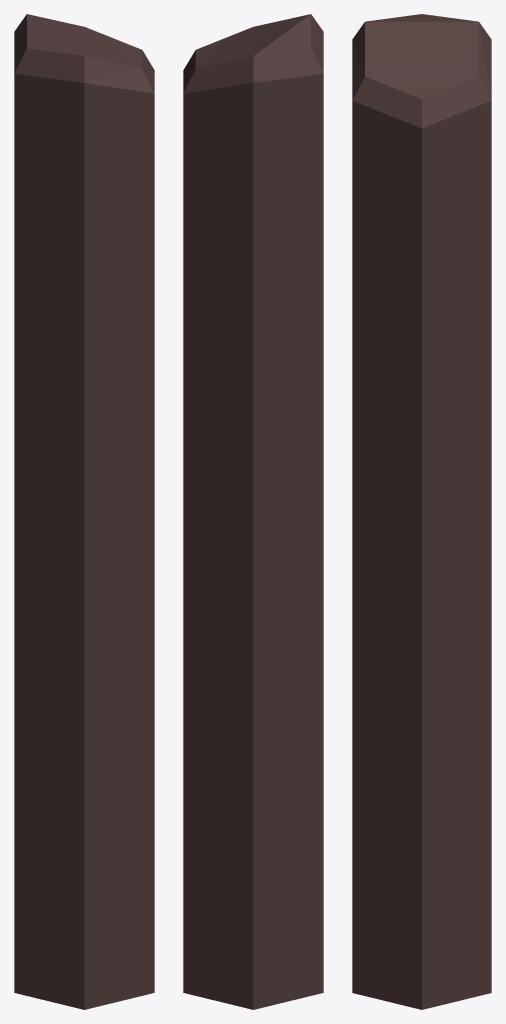
The model's file is wood_7.FBX.
The picture shows the model from 3 angles, left to right: view 1: azimuth 30°, elevation 25°; view 2: azimuth 150°, elevation 25°; view 3: azimuth 270°, elevation 25°; orthographic projection.
Parts seen in each view (by area): view 1: wood_7; view 2: wood_7; view 3: wood_7.
Part boxes in pixels (box(x1,y1,x2,y2)): wood_7: box(14, 14, 154, 1009); wood_7: box(183, 14, 323, 1009); wood_7: box(352, 14, 491, 1009).
Bounding box in the file's own units: 5.64 × 36.42 × 4.89.
